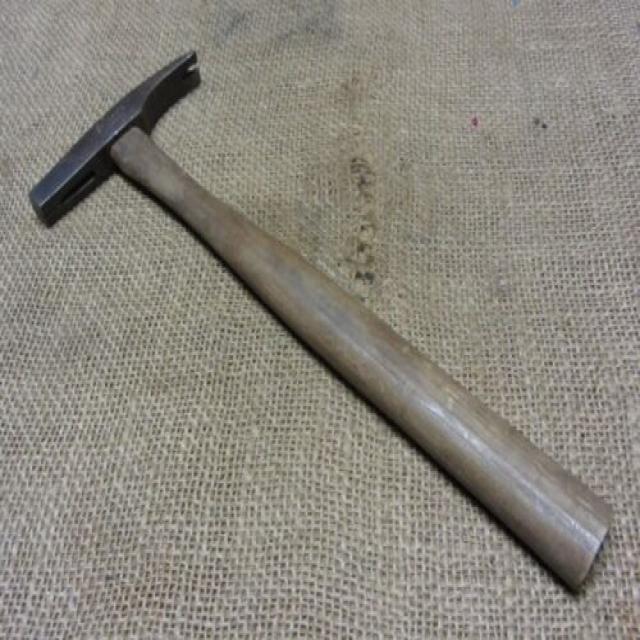hammer: (21, 42, 614, 592)
